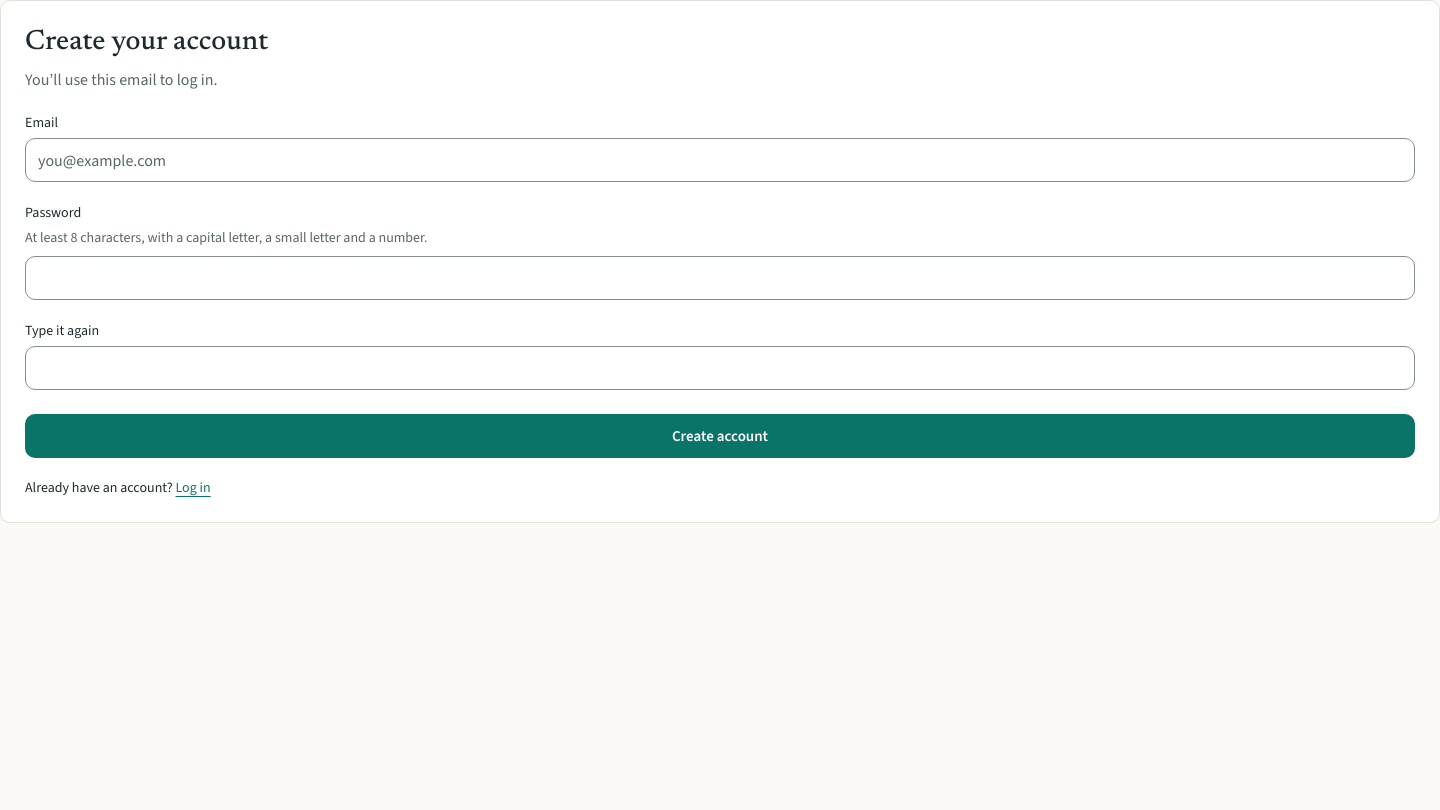
Test: SignUpForm › a Supabase error is shown
Type "ann@example.com" into the field labelled "Email" at (720, 160), box x1=25 y1=138 x2=1415 y2=182
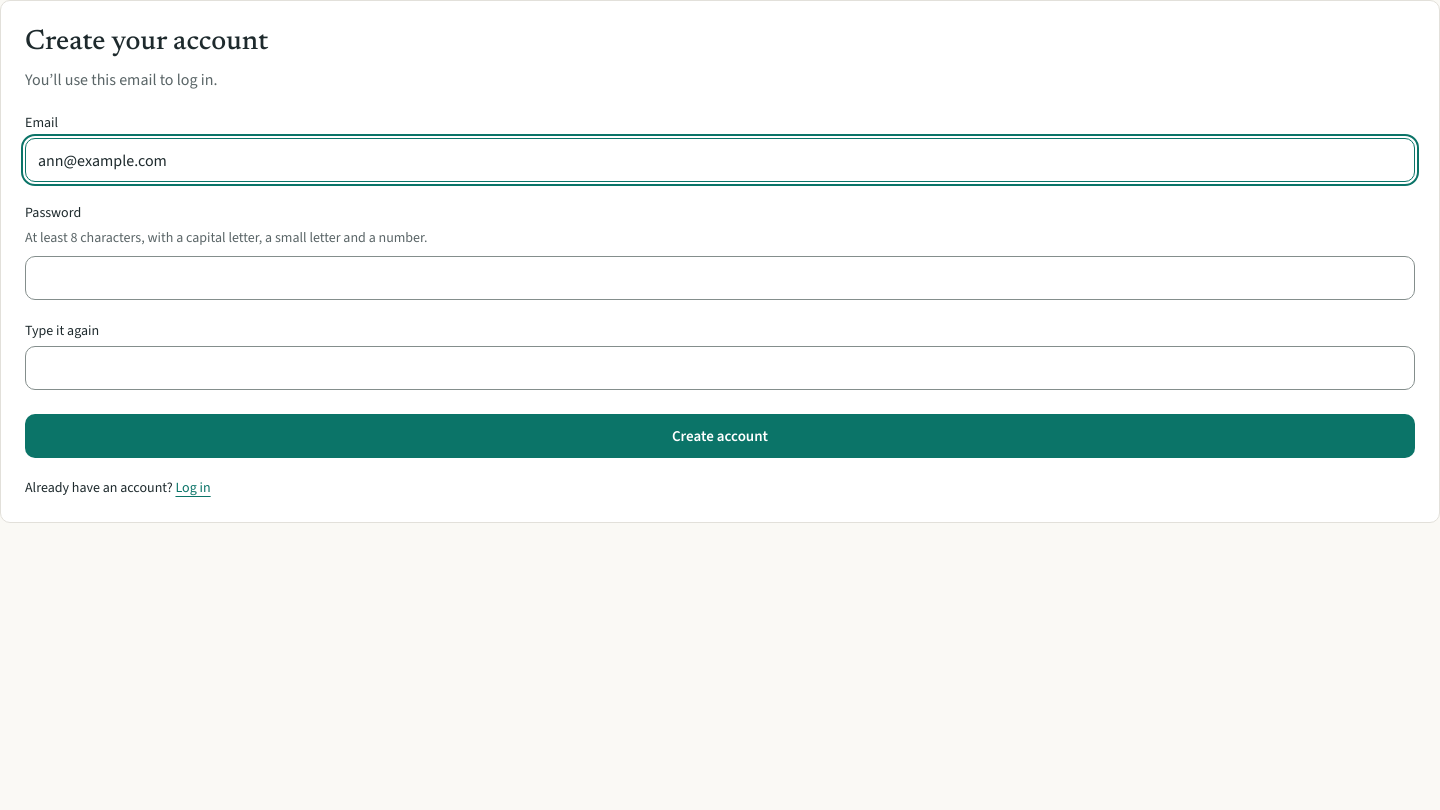
Type "Password123!" into the password field labelled "Password" at (720, 278), box x1=25 y1=256 x2=1415 y2=300
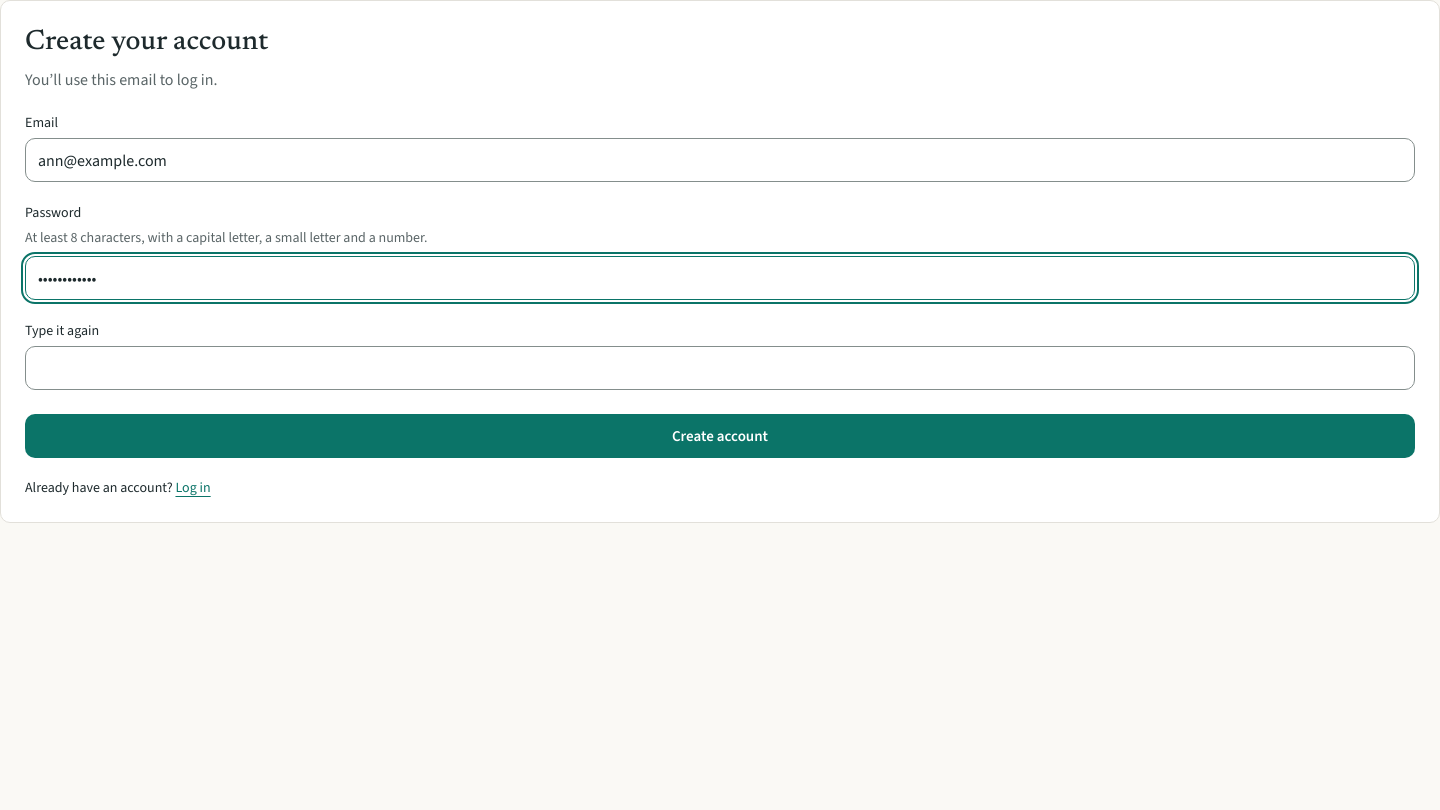
Type "Password123!" into the password field labelled "Type it again" at (720, 368), box x1=25 y1=346 x2=1415 y2=390
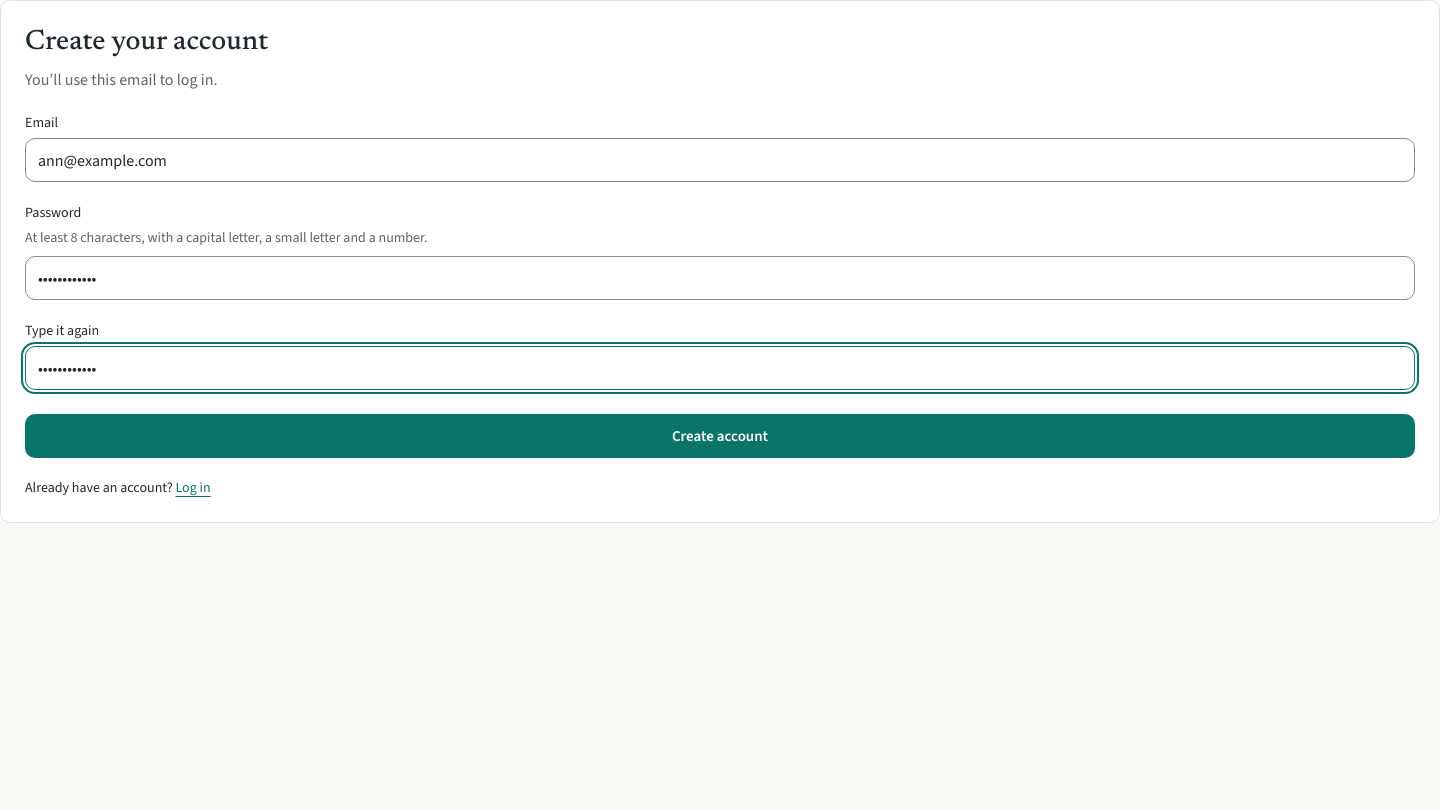
Click the button "Create account" at (720, 436), box x1=25 y1=414 x2=1415 y2=458
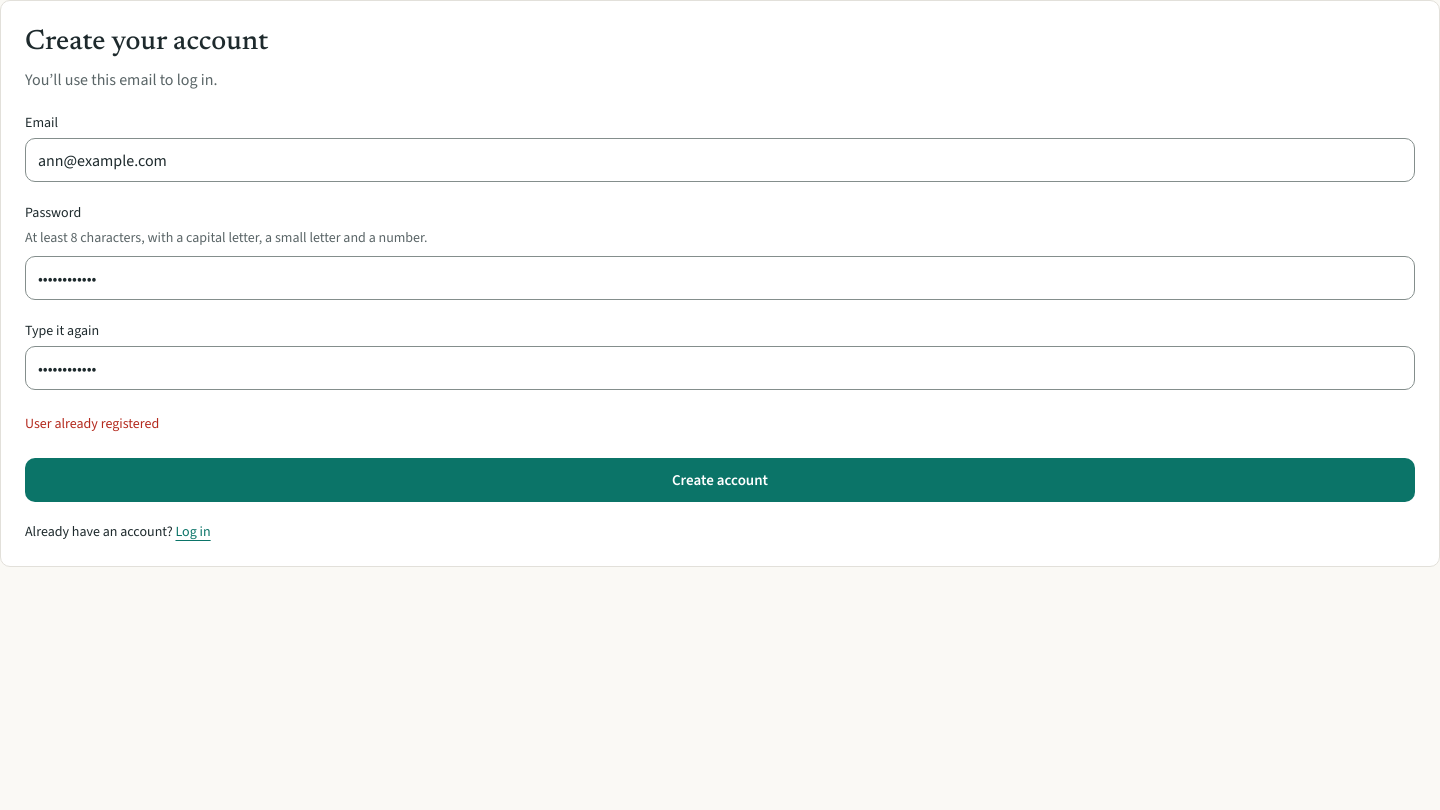
Check: the message reads "User already registered", box x1=25 y1=414 x2=159 y2=433
